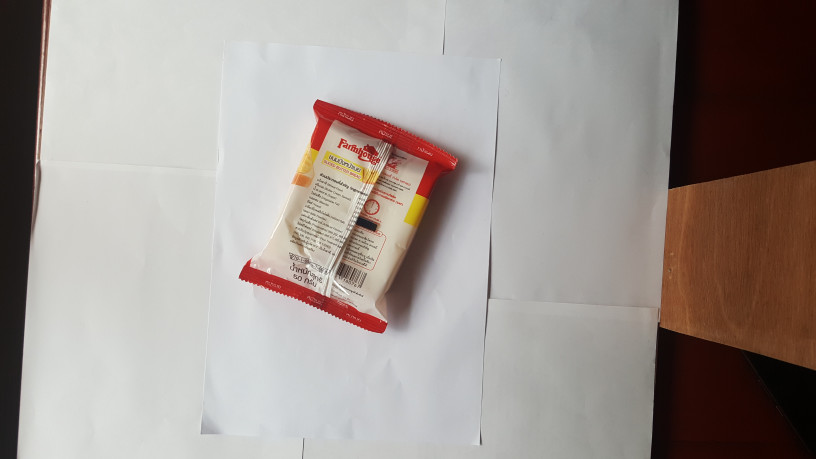farmhouse-bread-butter: (226, 84, 464, 344)
